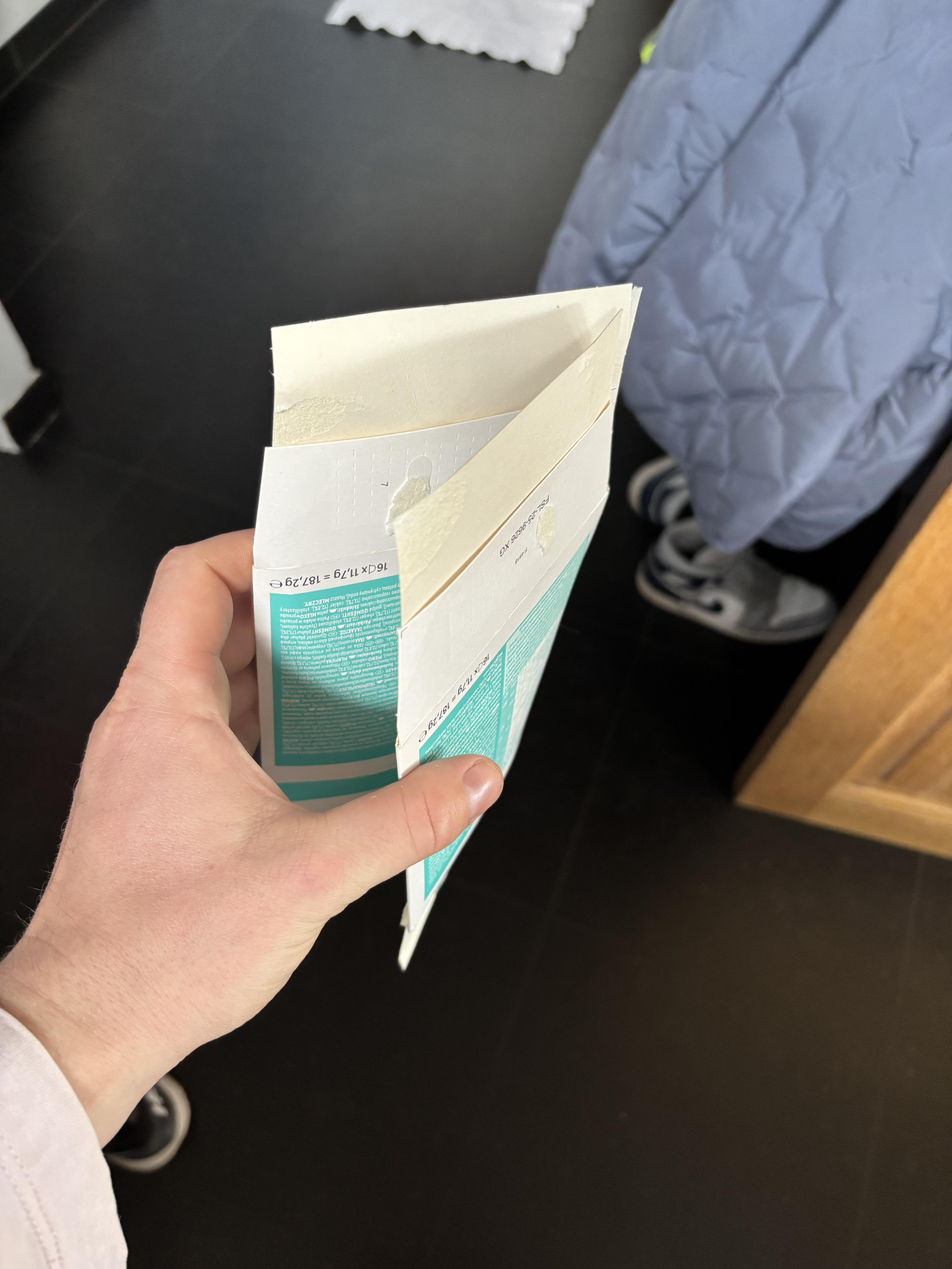Cardboard: (247, 276, 645, 979)
